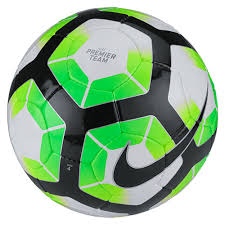top: (5, 3, 218, 218)
